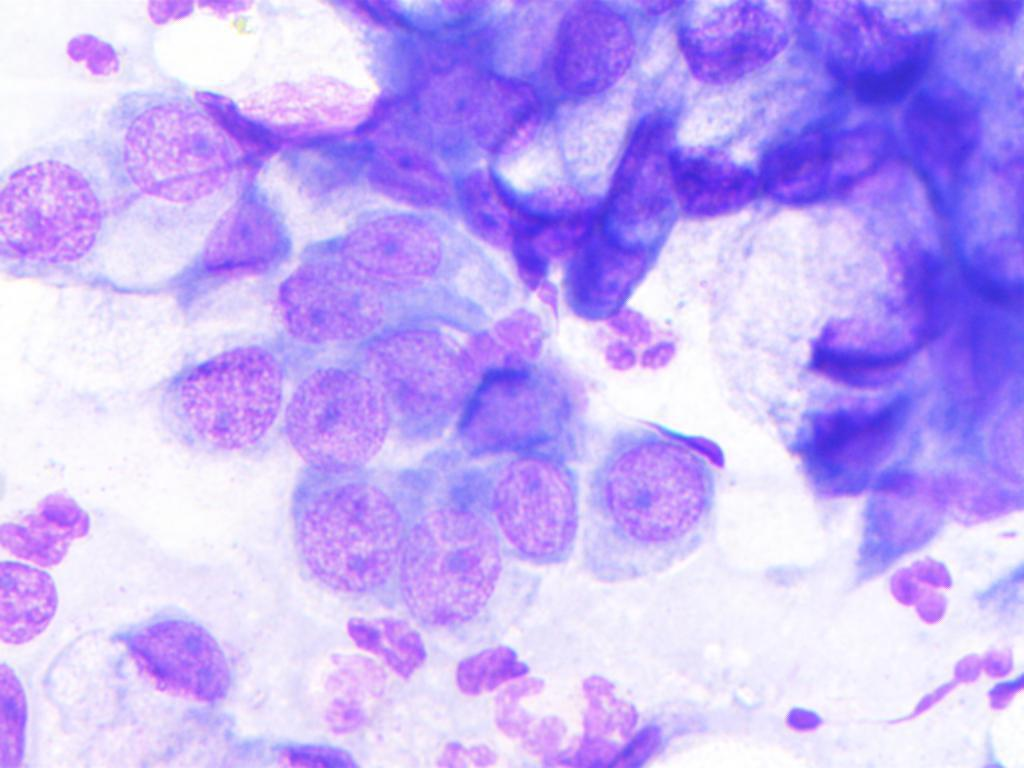epithelial: (581, 419, 734, 590), (279, 469, 405, 608), (154, 338, 289, 467), (2, 135, 114, 280), (119, 84, 235, 209), (403, 494, 501, 641), (363, 321, 479, 430), (263, 248, 387, 341), (492, 448, 581, 576), (281, 367, 392, 469), (672, 3, 807, 86), (856, 453, 953, 567), (341, 209, 460, 287), (403, 36, 500, 127), (0, 486, 99, 571), (759, 109, 842, 207), (0, 554, 61, 649)
goblet_cell: (96, 601, 272, 759), (447, 355, 573, 464), (190, 167, 293, 283), (548, 222, 666, 323), (550, 3, 649, 90), (451, 165, 545, 253), (468, 71, 548, 160)
neutrophil: (568, 667, 678, 768), (586, 299, 693, 382), (483, 676, 570, 763), (933, 638, 1020, 712), (343, 613, 433, 683), (882, 553, 956, 634), (443, 639, 536, 700), (57, 30, 129, 82), (142, 0, 260, 31)
